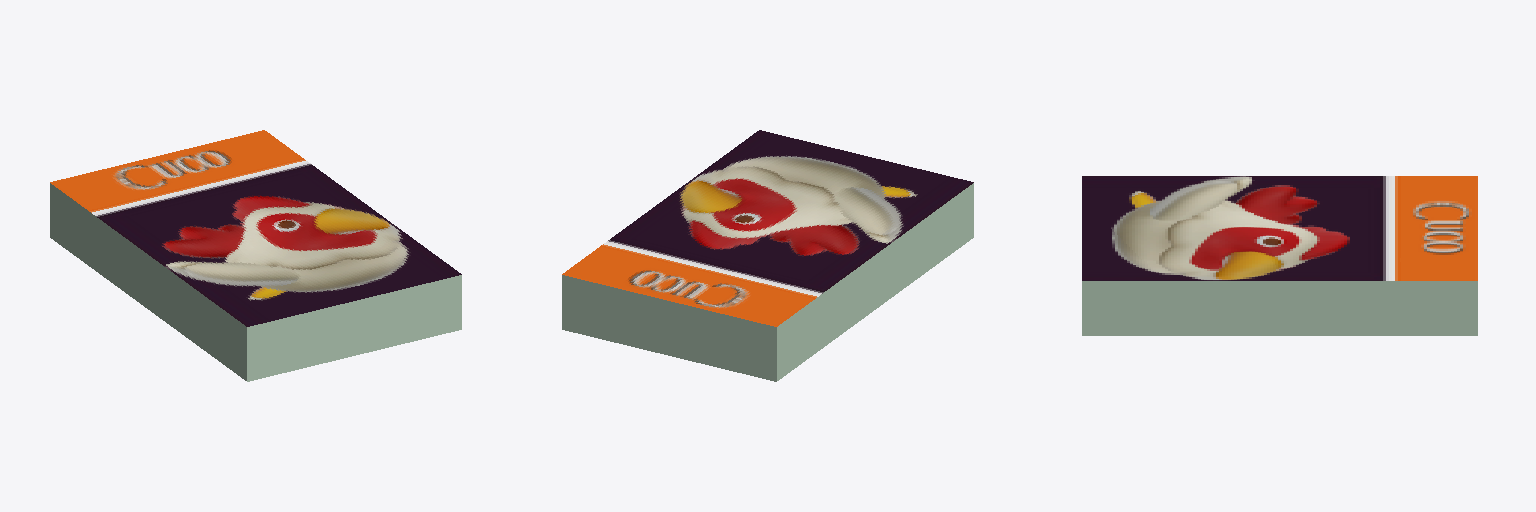
3 renders of one model, left to right at view 1: azimuth 30°, elevation 25°; view 2: azimuth 150°, elevation 25°; view 3: azimuth 270°, elevation 25°, orthographic.
Visible parts, largest first — view 1: Cube; view 2: Cube; view 3: Cube.
Boxes of the visible parts, box(x1,y1,x2,y2) form: Cube: box(50, 130, 461, 381); Cube: box(562, 130, 973, 381); Cube: box(1082, 176, 1477, 335).
Size of the model in its own units: 0.8208 by 0.2 by 1.31.
Materials: 1 (1 with a texture image).